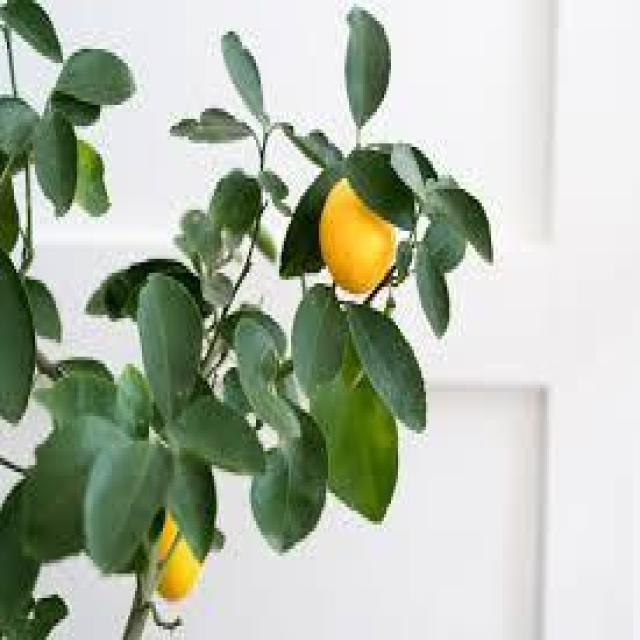fruit: (316, 168, 410, 302), (149, 502, 209, 603)
